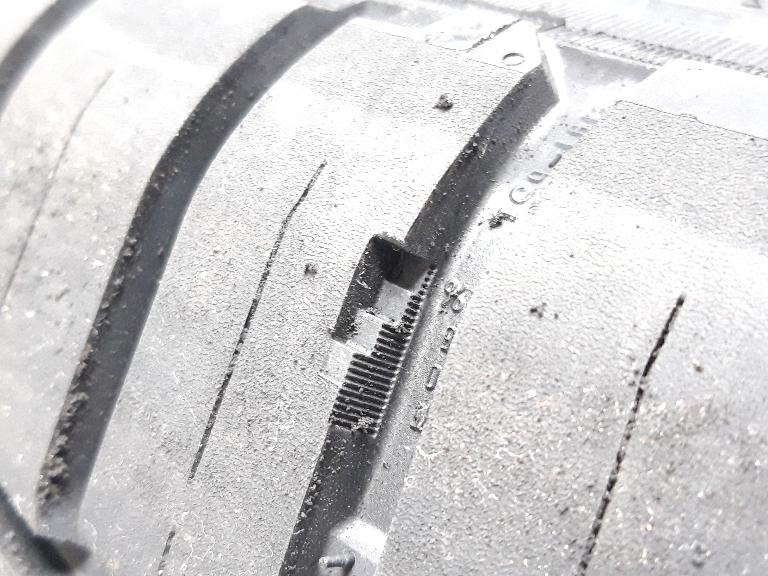temoin:75: (311, 221, 452, 398)
